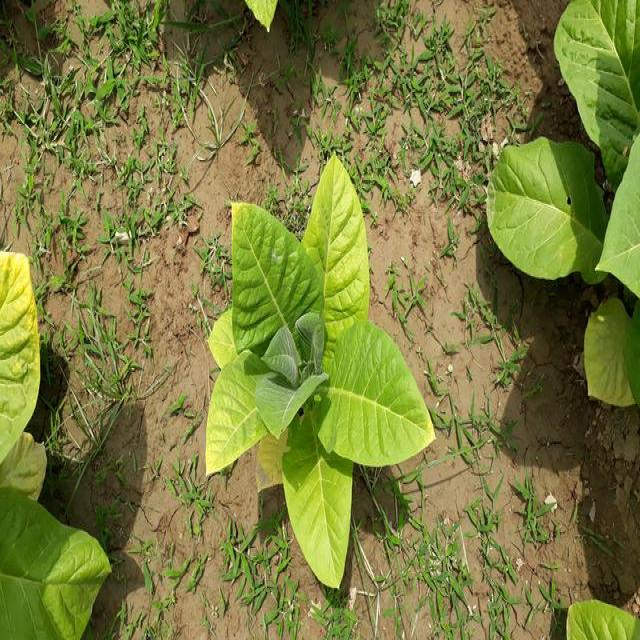crop: (205, 158, 432, 608)
